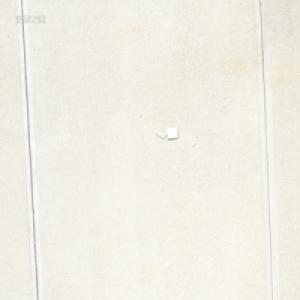LuggageTag: (154, 125, 178, 141)
